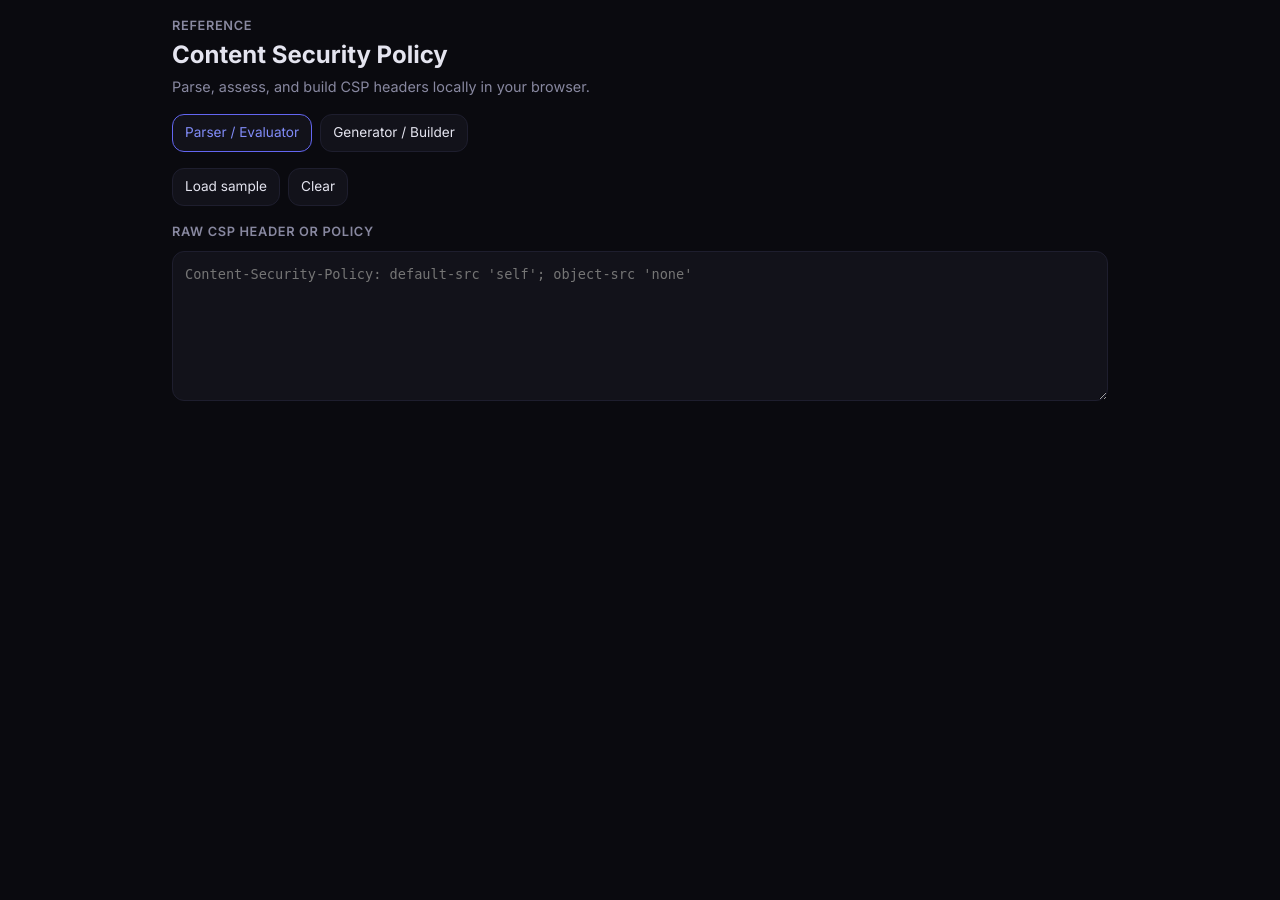
CspTool › calculates risks live and displays directive rows
Replace the text in the text box named "Raw CSP header input" with "default-src 'self'; script-src 'unsafe-inline'" at (640, 326), box 172,251 -> 1108,401
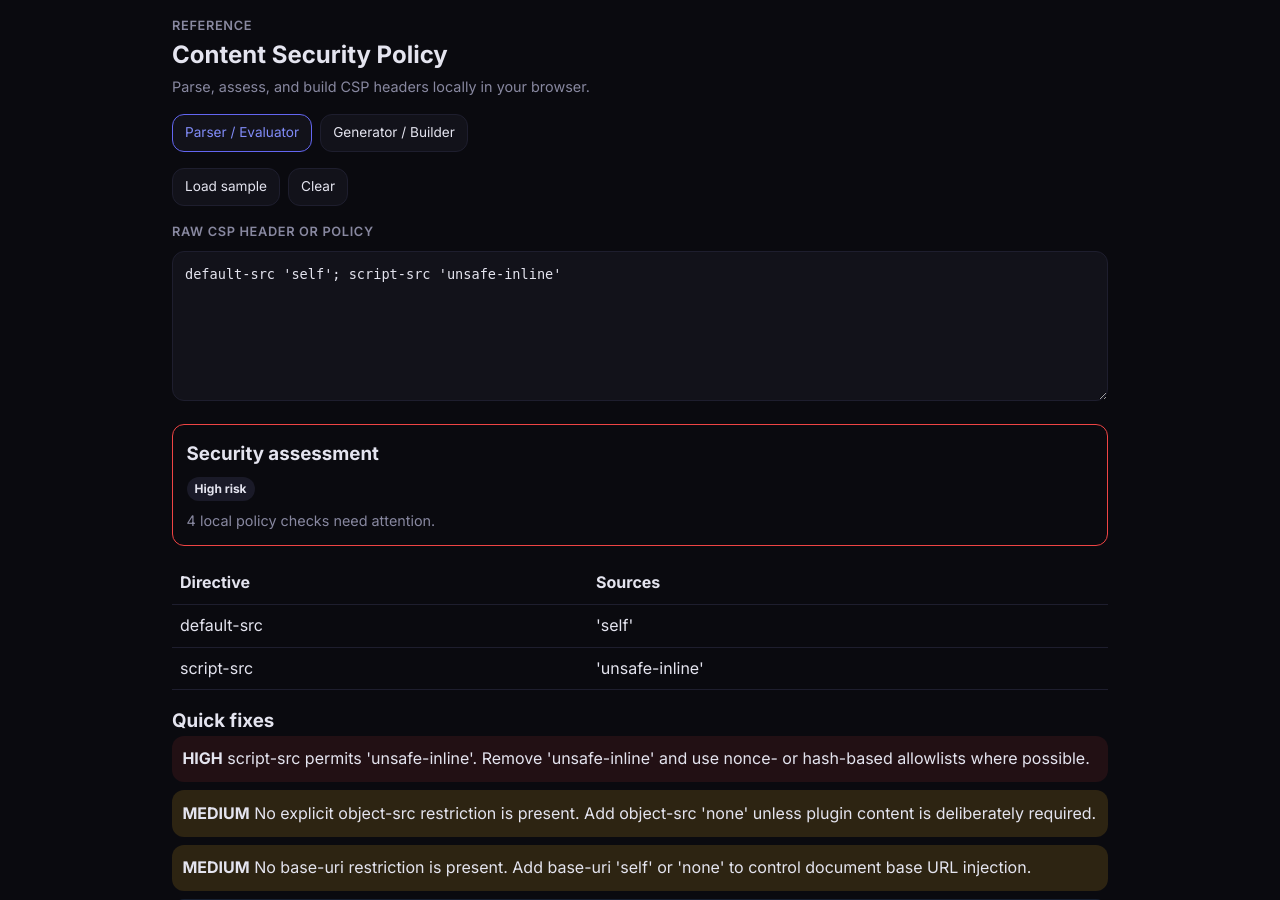
Expected: the text "High risk" is shown, 187,477 -> 255,501
Expected: the table named "Parsed CSP directives" is shown, 172,562 -> 1108,690
Expected: the list item "permits 'unsafe-inline'" is shown, 227,748 -> 477,768
